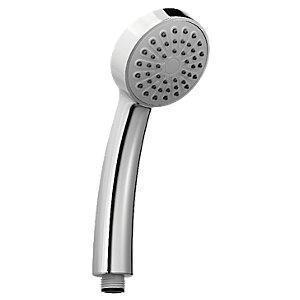Ducha: (44, 1, 221, 299)
